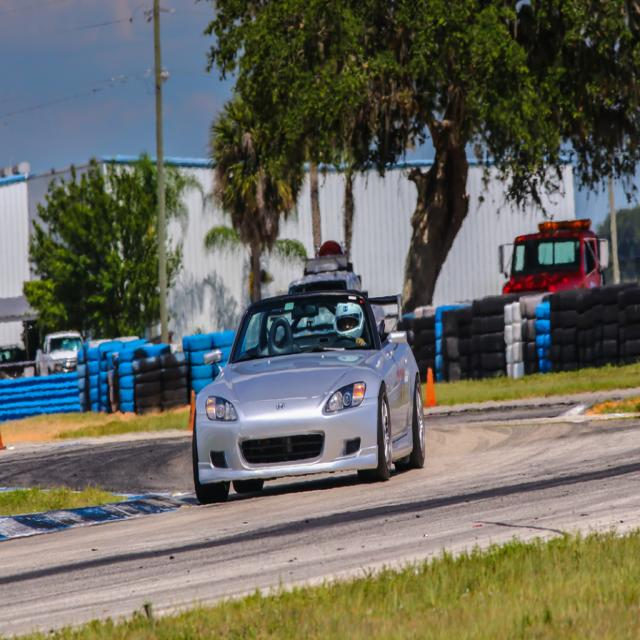car: (187, 290, 425, 499)
